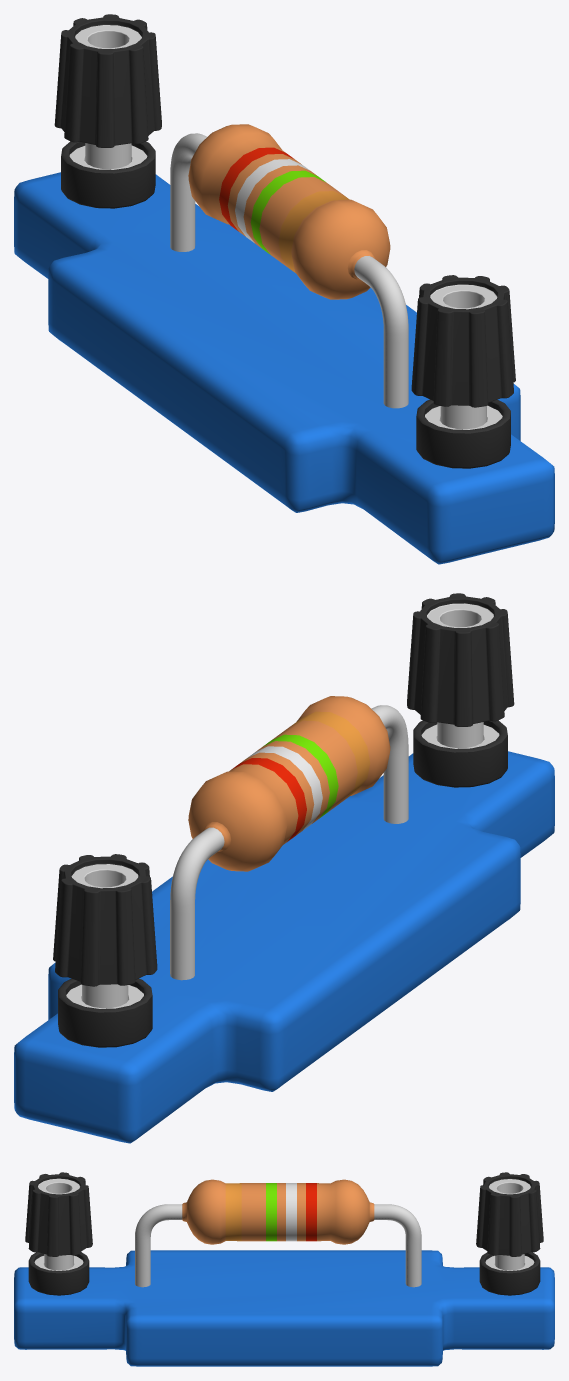
The model's file is Resistor.fbx.
3 views of the same model, one above another, from view 1: azimuth 30°, elevation 25°; view 2: azimuth 150°, elevation 25°; view 3: azimuth 270°, elevation 25° (orthographic). The views are drawn at different scales.
Parts seen in each view (by area): view 1: Resistor, Cylinder.012, Cylinder, Cylinder.011, BezierCurve; view 2: Resistor, Cylinder.012, Cylinder, Cylinder.011, BezierCurve; view 3: Resistor, Cylinder, Cylinder.012, Cylinder.011, BezierCurve.
Boxes of the visible parts, bbox=[...] form: Resistor: bbox=[14, 172, 554, 564]; Cylinder.012: bbox=[54, 14, 515, 429]; Cylinder: bbox=[188, 124, 390, 299]; Cylinder.011: bbox=[61, 141, 510, 468]; BezierCurve: bbox=[170, 133, 408, 408]; Resistor: bbox=[14, 751, 554, 1143]; Cylinder.012: bbox=[53, 593, 514, 1008]; Cylinder: bbox=[188, 696, 390, 871]; Cylinder.011: bbox=[58, 720, 507, 1047]; BezierCurve: bbox=[170, 705, 408, 980]; Resistor: bbox=[14, 1250, 554, 1366]; Cylinder: bbox=[182, 1179, 374, 1244]; Cylinder.012: bbox=[25, 1172, 543, 1270]; Cylinder.011: bbox=[28, 1252, 540, 1295]; BezierCurve: bbox=[135, 1204, 421, 1287].
Size of the model in its own units: 73.78 by 72.3 by 236.
